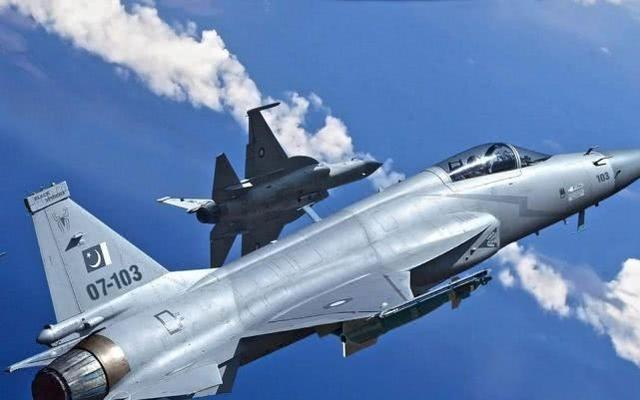airplane: (4, 141, 640, 399), (155, 104, 384, 268)
